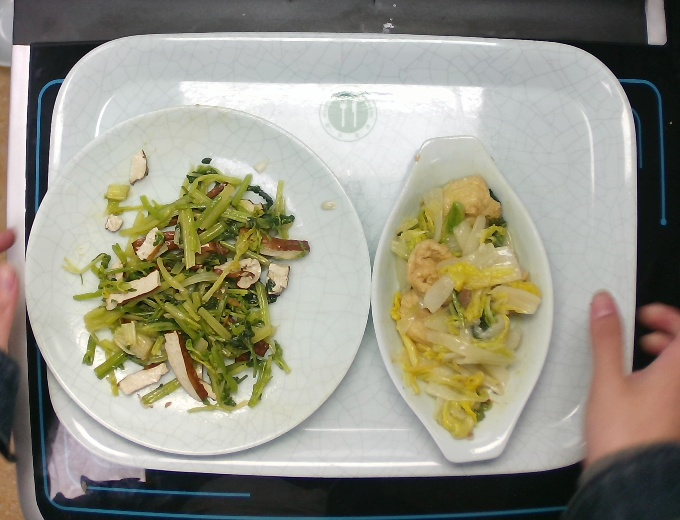JYsf-Da_Yuan_Pan: (23, 102, 378, 460)
JYsf-Yu_Pan: (369, 134, 553, 467)
